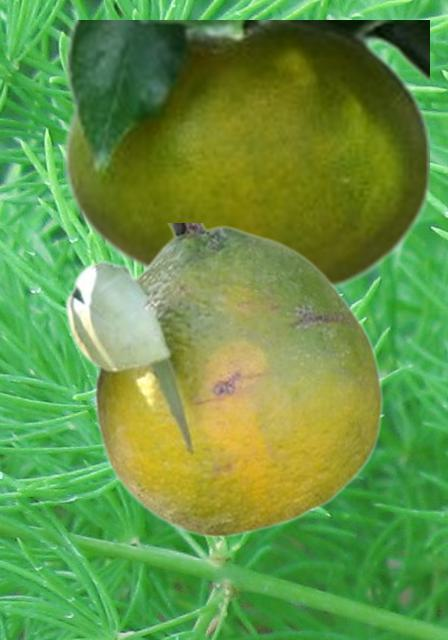dalandan: (63, 223, 383, 537), (63, 20, 428, 293)
